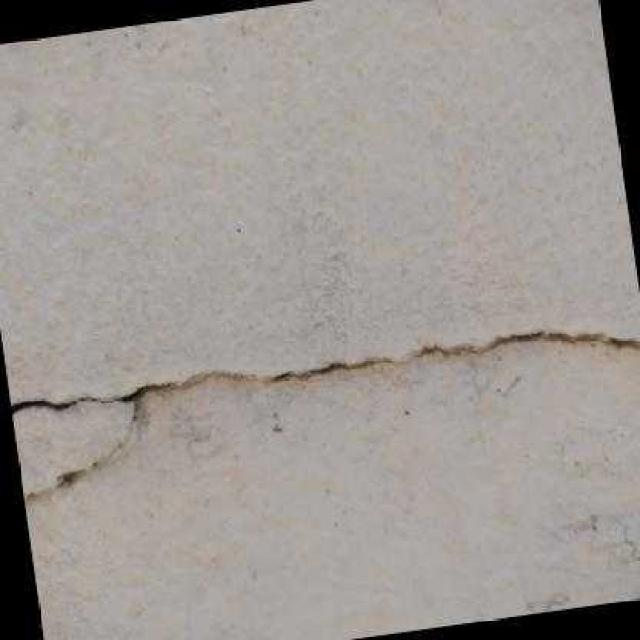D00: (12, 329, 640, 496)
